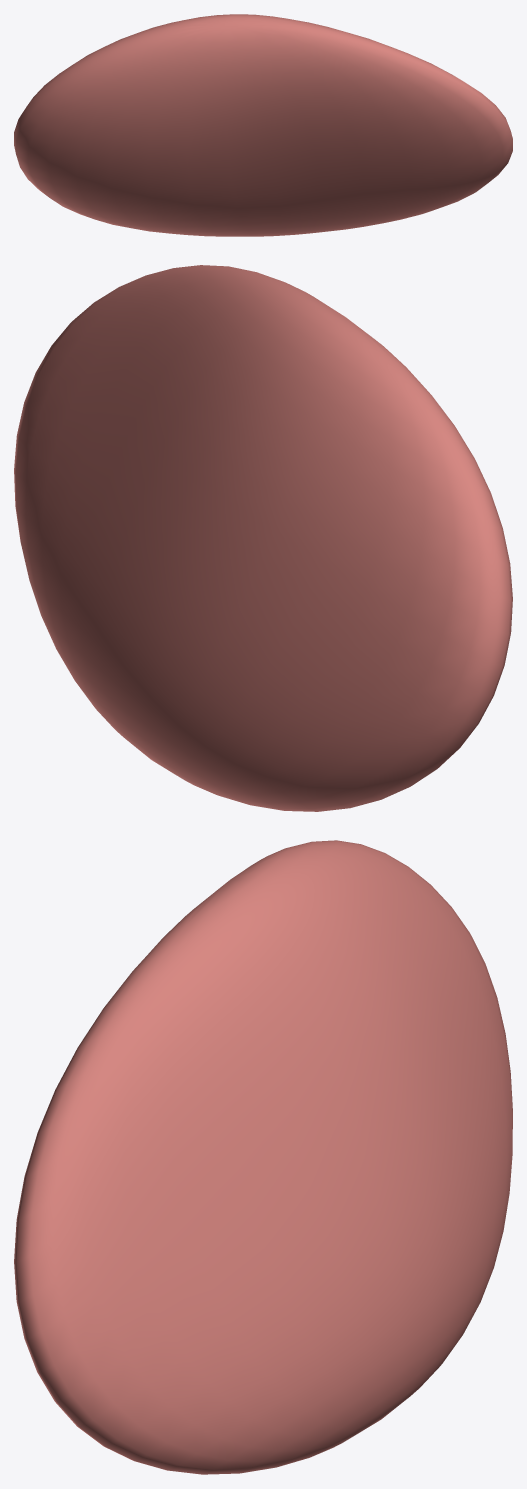
3 renders of one model, top to bottom at view 1: azimuth 30°, elevation 25°; view 2: azimuth 150°, elevation 25°; view 3: azimuth 270°, elevation 25°, orthographic. The views are drawn at different scales.
Visible parts, largest first — view 1: ZA_54619a42b06d4feb; view 2: ZA_54619a42b06d4feb; view 3: ZA_54619a42b06d4feb.
Boxes of the visible parts, bbox=[...] form: ZA_54619a42b06d4feb: bbox=[14, 14, 512, 236]; ZA_54619a42b06d4feb: bbox=[14, 265, 512, 811]; ZA_54619a42b06d4feb: bbox=[14, 840, 512, 1474].
Bounding box in the file's own units: 0.0127 × 0.008 × 0.00749.
